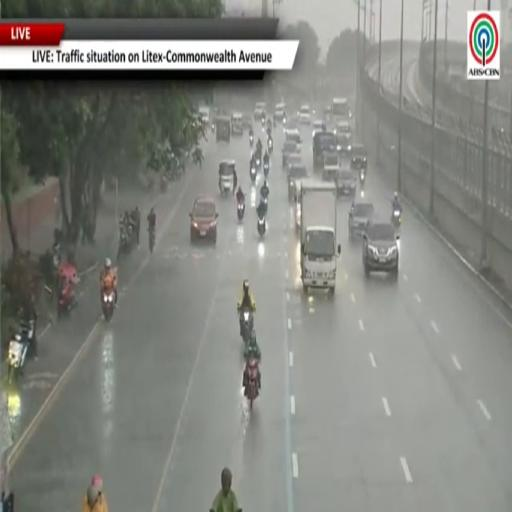car: (363, 218, 399, 278), (190, 197, 218, 244), (348, 201, 375, 238), (313, 132, 336, 171), (288, 163, 308, 200), (219, 159, 235, 196), (336, 169, 357, 197), (322, 152, 340, 184), (282, 140, 300, 169), (351, 143, 367, 170), (331, 99, 351, 120), (336, 133, 352, 158), (285, 128, 302, 151), (284, 153, 303, 172), (232, 112, 243, 135), (298, 105, 311, 124), (283, 115, 299, 130), (312, 120, 326, 137), (334, 121, 351, 135), (254, 102, 266, 121), (199, 106, 210, 126), (274, 103, 285, 122), (243, 115, 253, 131)
motorcycle: (8, 319, 34, 383), (57, 261, 79, 317), (8, 334, 28, 383), (57, 279, 76, 317), (245, 359, 259, 409), (118, 224, 135, 255), (240, 309, 253, 344), (102, 288, 115, 322), (53, 244, 61, 271), (257, 215, 266, 237), (391, 210, 401, 228), (237, 201, 245, 220), (149, 229, 155, 253), (261, 195, 268, 215), (250, 167, 257, 183), (161, 175, 167, 193), (268, 138, 274, 154), (360, 169, 365, 186), (264, 162, 269, 177), (256, 156, 261, 170), (248, 136, 254, 147), (267, 124, 272, 137), (211, 123, 215, 132), (283, 117, 287, 125)
truck: (300, 179, 341, 294)
